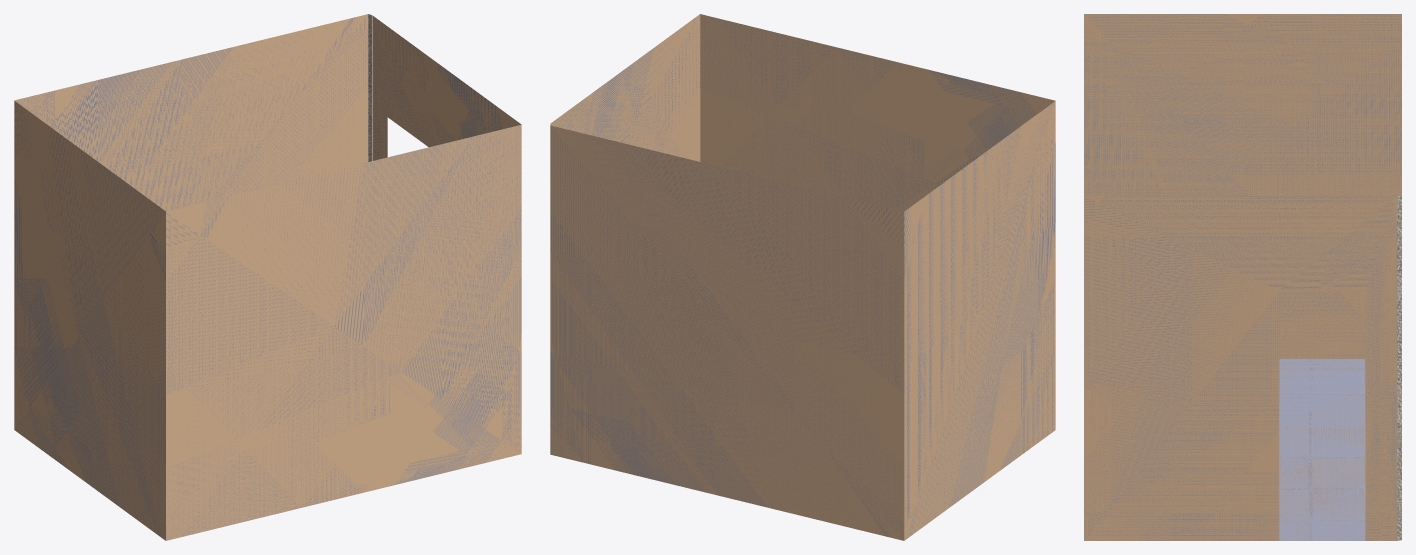
File: DES006.obj
3 renders of one model, left to right at view 1: azimuth 30°, elevation 25°; view 2: azimuth 150°, elevation 25°; view 3: azimuth 270°, elevation 25°, orthographic. The views are drawn at different scales.
Parts seen in each view (by area): view 1: Mesh1 DES006 Model; view 2: Mesh1 DES006 Model; view 3: Mesh1 DES006 Model.
Part boxes in pixels (left/top/right/bottom): Mesh1 DES006 Model: left=14, top=14, right=521, bottom=540; Mesh1 DES006 Model: left=550, top=14, right=1055, bottom=540; Mesh1 DES006 Model: left=1084, top=14, right=1401, bottom=540.
Size of the model in its own units: 4.07 by 3.6 by 3.
Materials: 4 (2 with a texture image).
